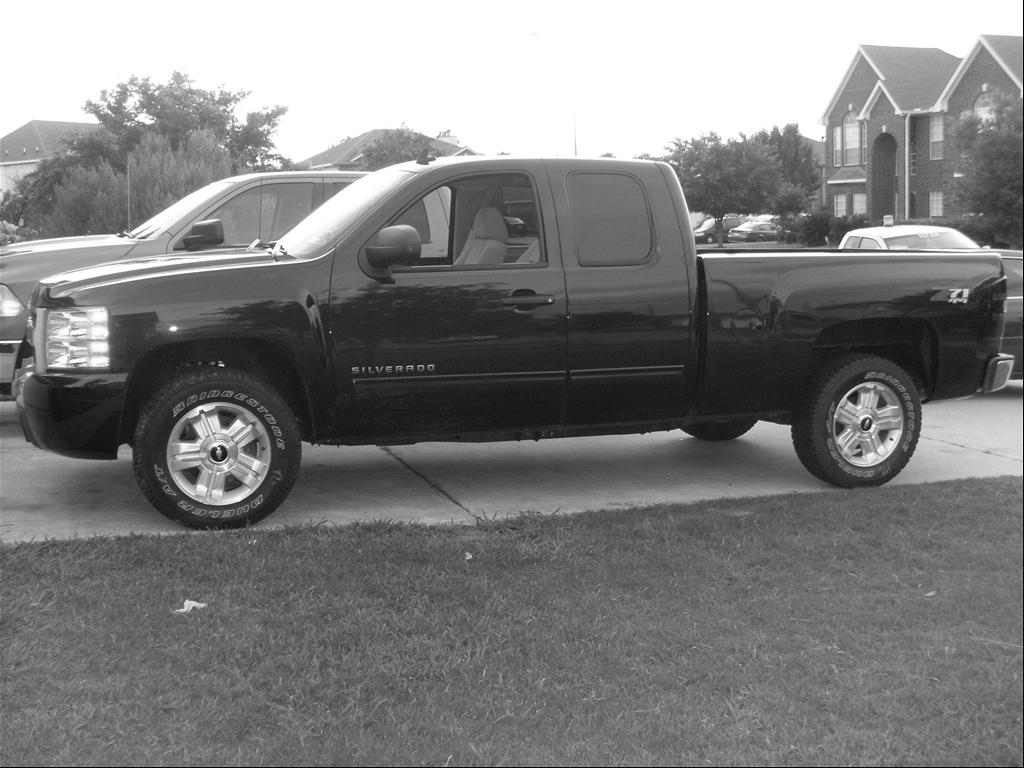car: (7, 155, 1013, 535)
